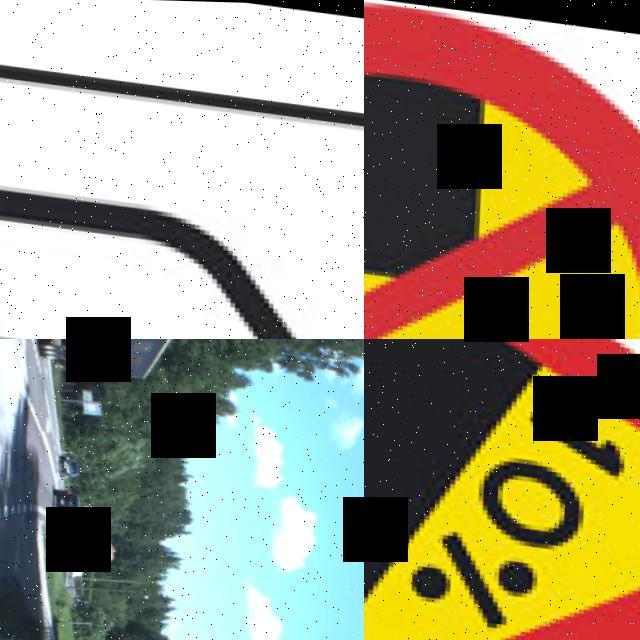46: (364, 0, 640, 339)
71: (0, 51, 364, 339)
Steep downhill: (364, 339, 640, 640)
